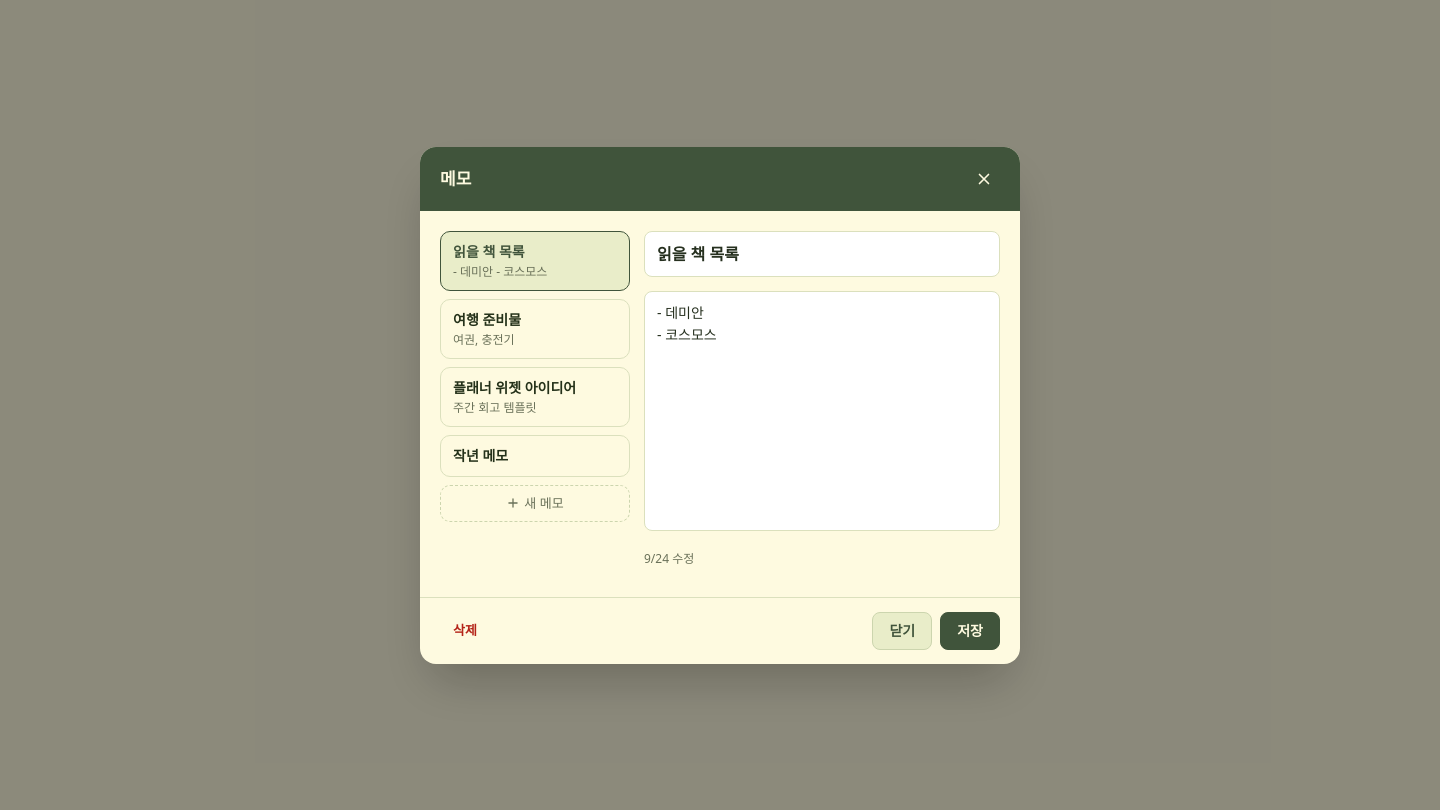
메모 창 OV-06 (US-25) › 다른 메모로 바꿀지 묻는 중 Esc는 그 확인만 닫는다 (D-037)
In the field named "메모 제목": (822, 254) [644,230,1000,276], type "!"
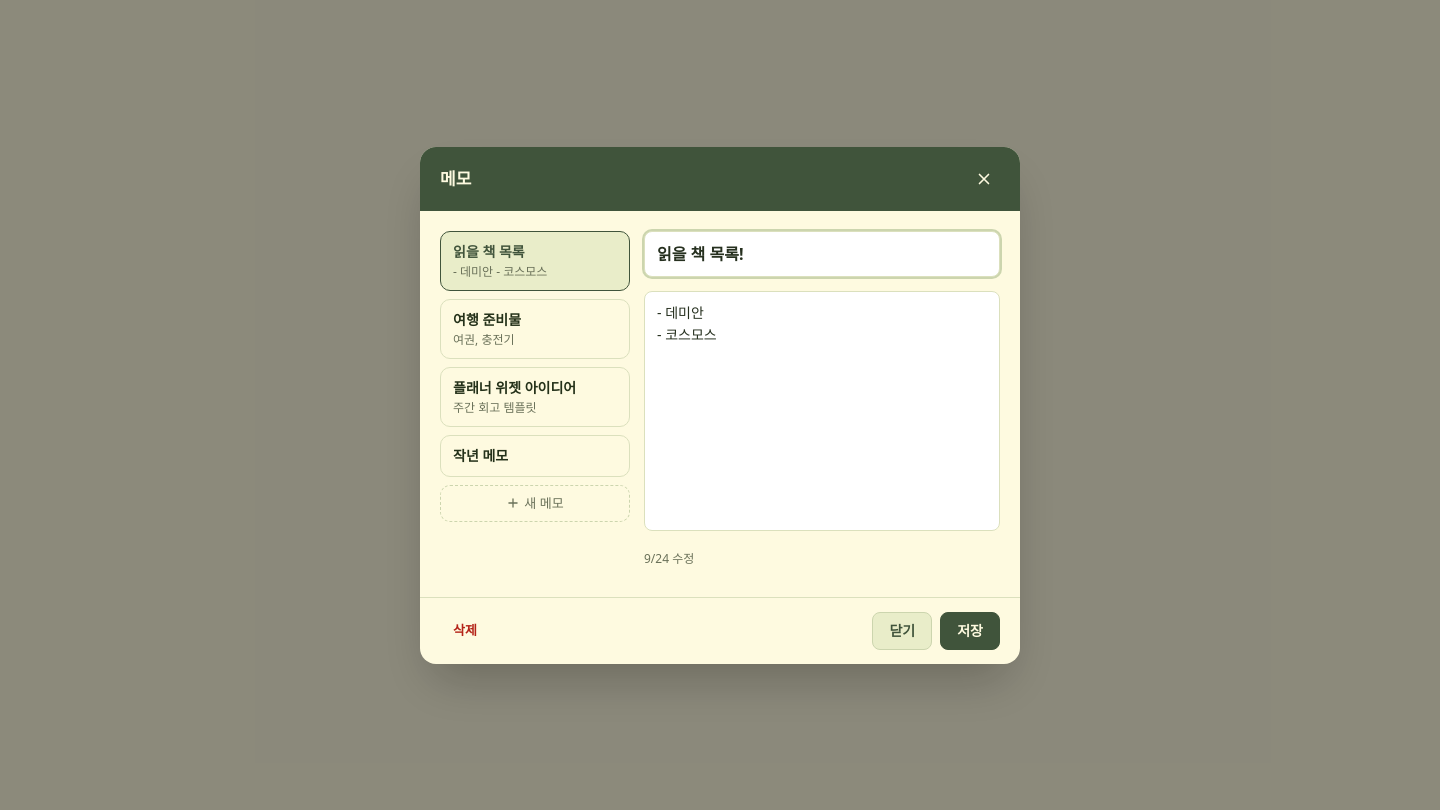
Click the text "여행 준비물": (487, 319) [453,310,521,328]
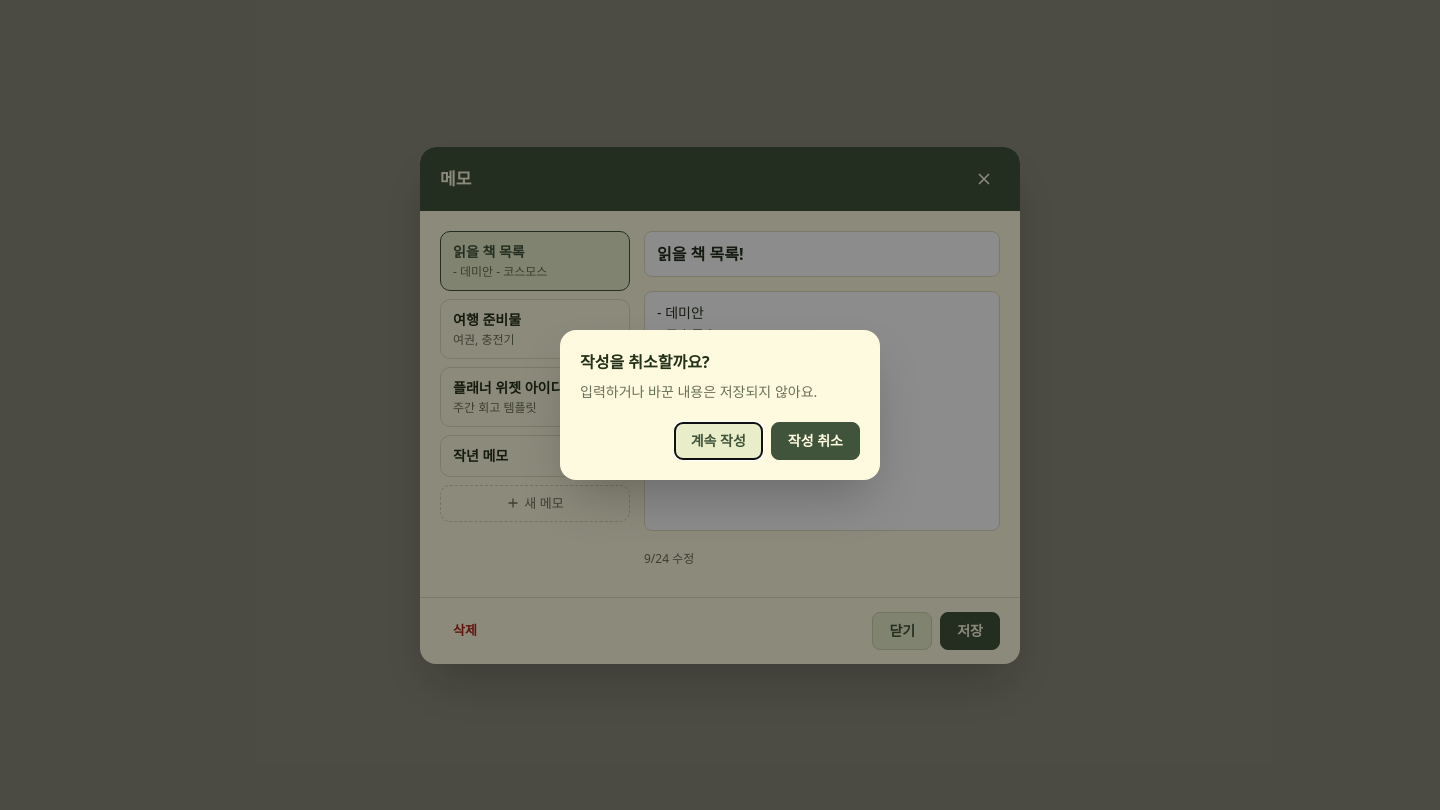
Press Escape
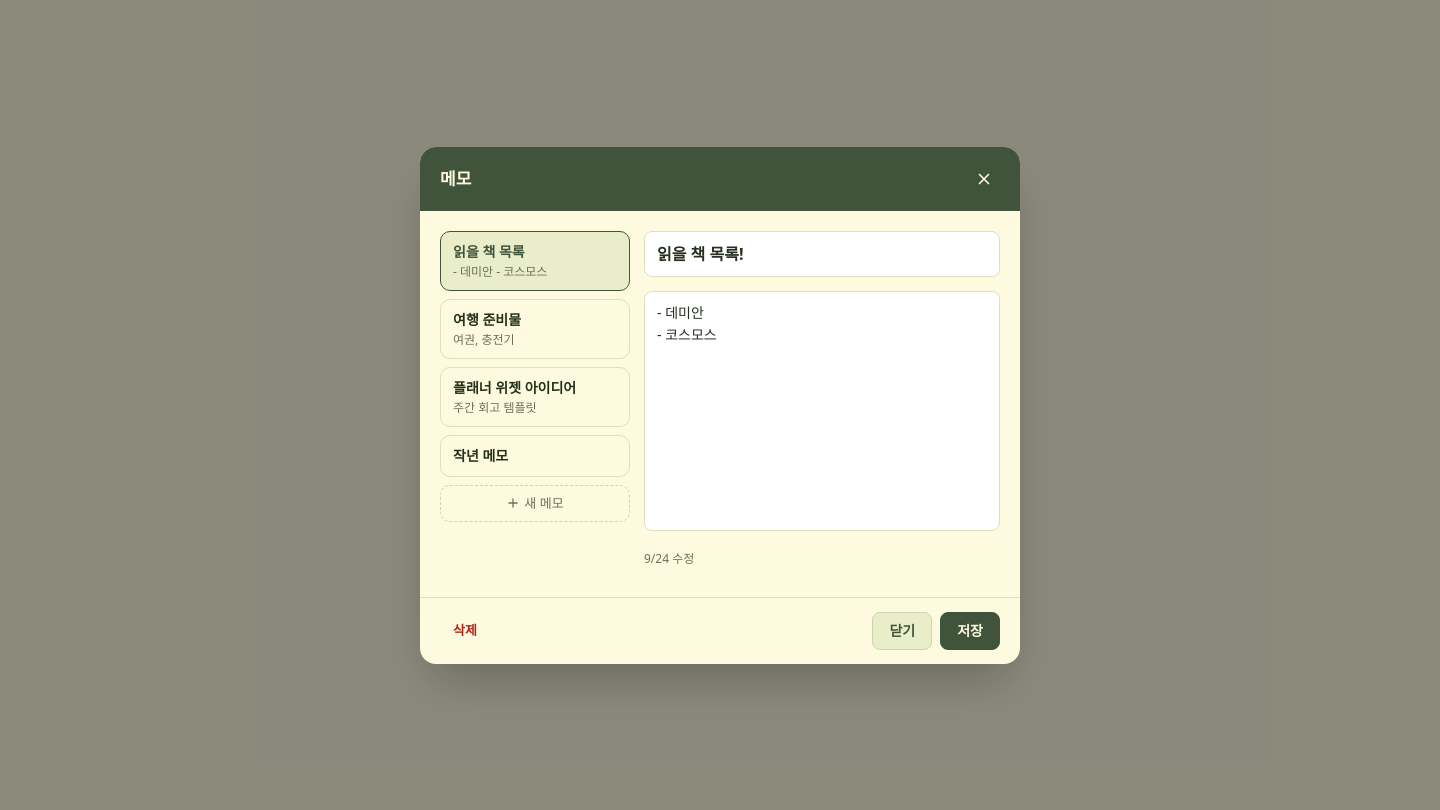
Result: the field named "메모 제목" holds "읽을 책 목록!" at [644,230,1000,276]
Result: the dialog "작성을 취소할까요? 입력하거나 바꾼 내용은 저장되지 않아요. 계속 작성 작성 취소" is gone
